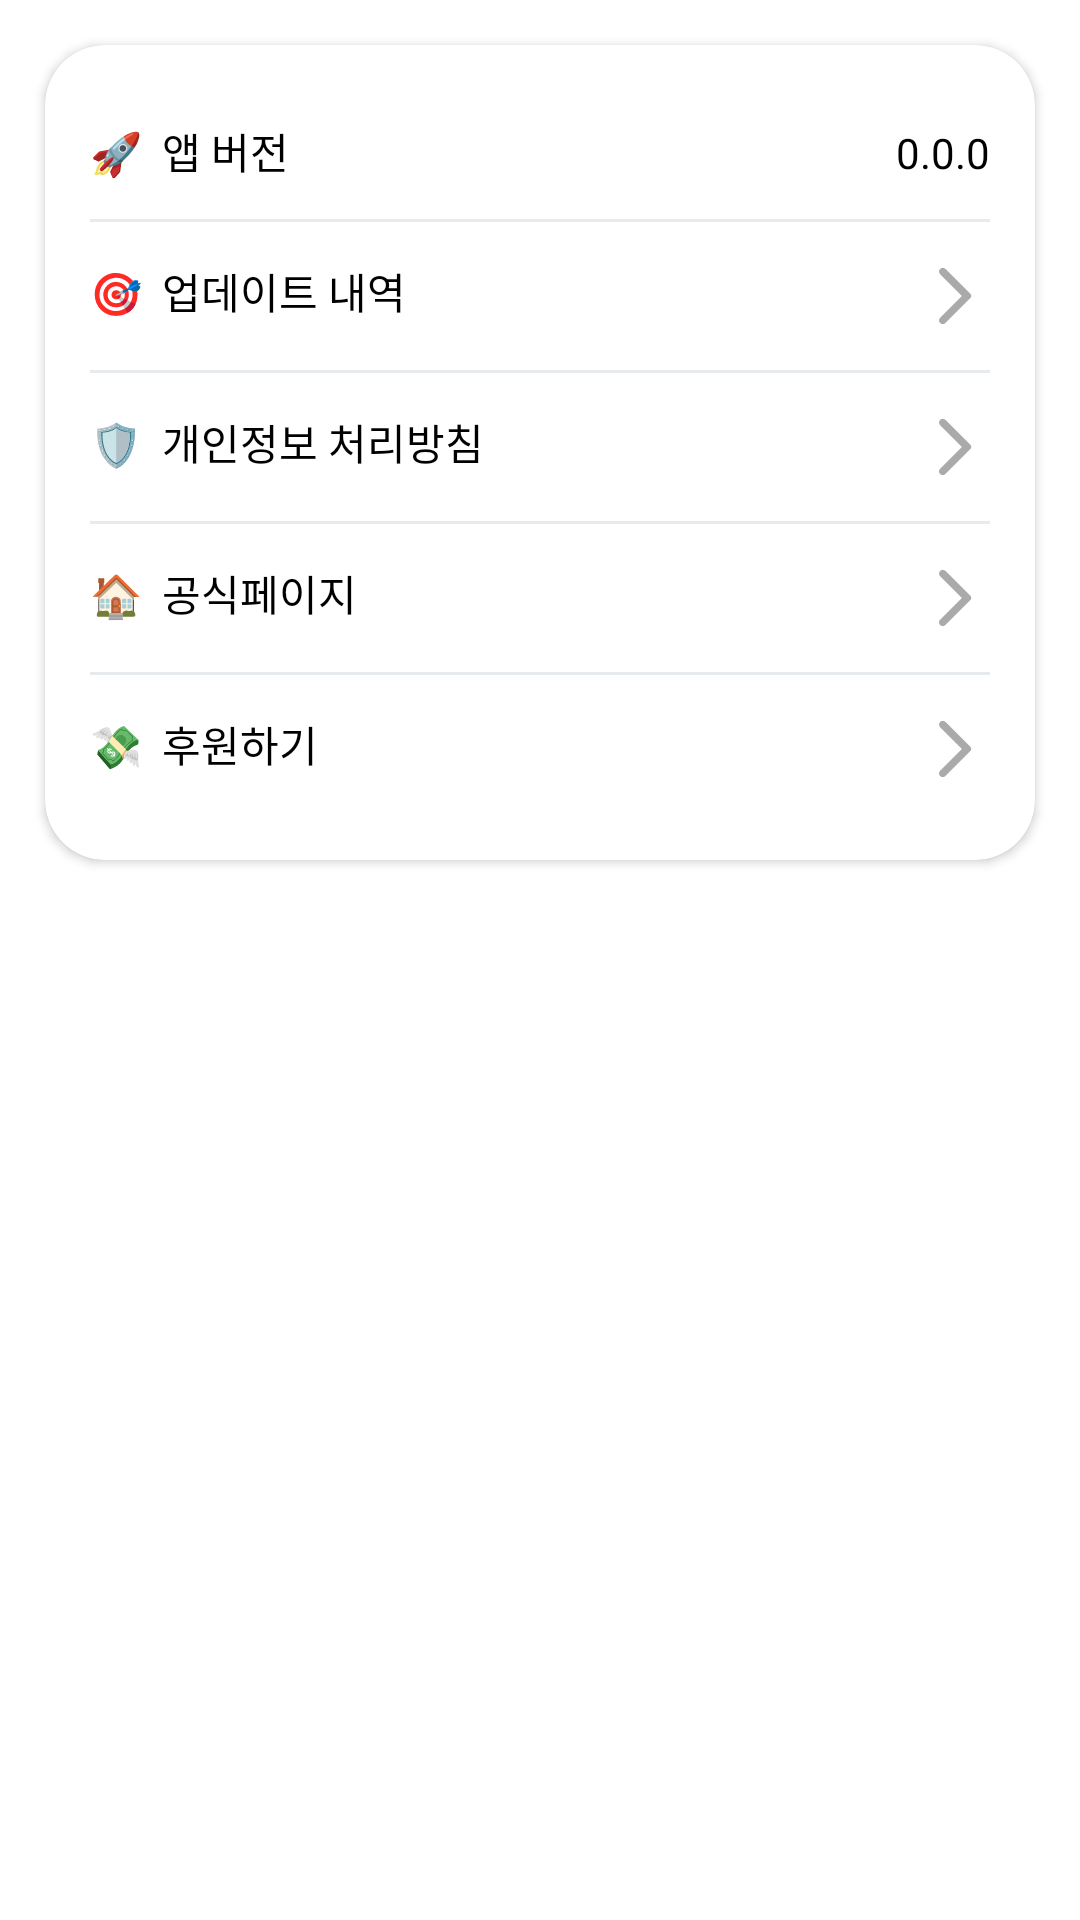

Screen size 1080×1920. Icon name, then its center in pixels as point (x, y):
notifi round arrow forward: point (955, 296), point (955, 447), point (955, 598), point (955, 749)
